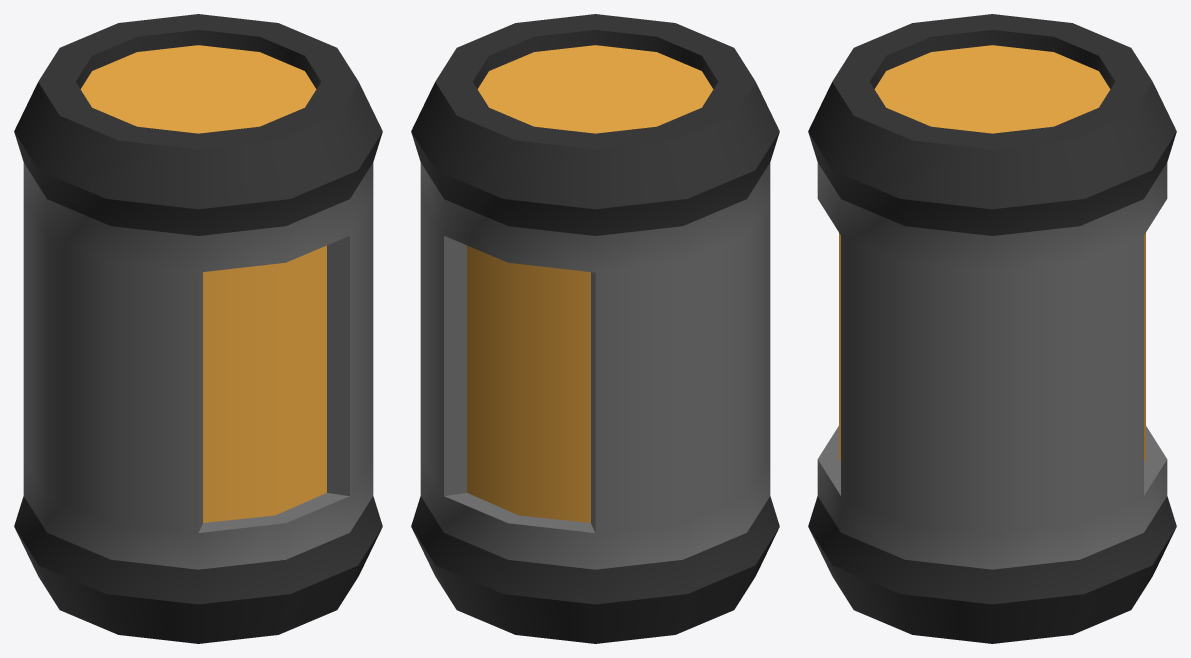
The model's file is Pickup Jar.glb.
3 views of the same model, side by side, from view 1: azimuth 30°, elevation 25°; view 2: azimuth 150°, elevation 25°; view 3: azimuth 270°, elevation 25° (orthographic).
Parts seen in each view (by area): view 1: Pickup_Jar; view 2: Pickup_Jar; view 3: Pickup_Jar.
Part boxes in pixels (<box>): Pickup_Jar: <box>14,14,382,643</box>; Pickup_Jar: <box>411,14,779,643</box>; Pickup_Jar: <box>808,14,1176,643</box>.
Bounding box in the file's own units: 0.6919 × 1.02 × 0.6919.
Materials: 1 (1 with a texture image).
